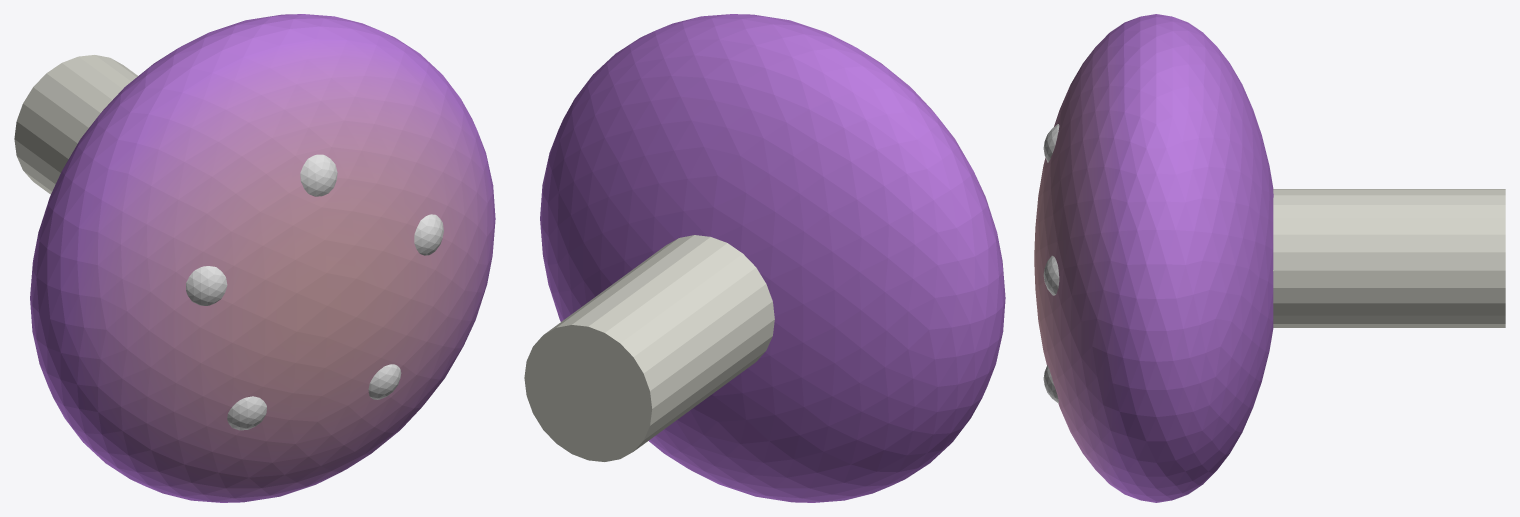
The model's file is magic_mushroom.glb.
The picture shows the model from 3 angles, left to right: view 1: azimuth 30°, elevation 25°; view 2: azimuth 150°, elevation 25°; view 3: azimuth 270°, elevation 25°; orthographic projection. The views are drawn at different scales.
Visible parts, largest first — view 1: world; view 2: world; view 3: world.
Boxes of the visible parts, bbox=[...] form: world: bbox=[14, 14, 495, 502]; world: bbox=[524, 14, 1005, 502]; world: bbox=[1034, 14, 1505, 502].
Bounding box in the file's own units: 1.4 × 1.4 × 1.35.
